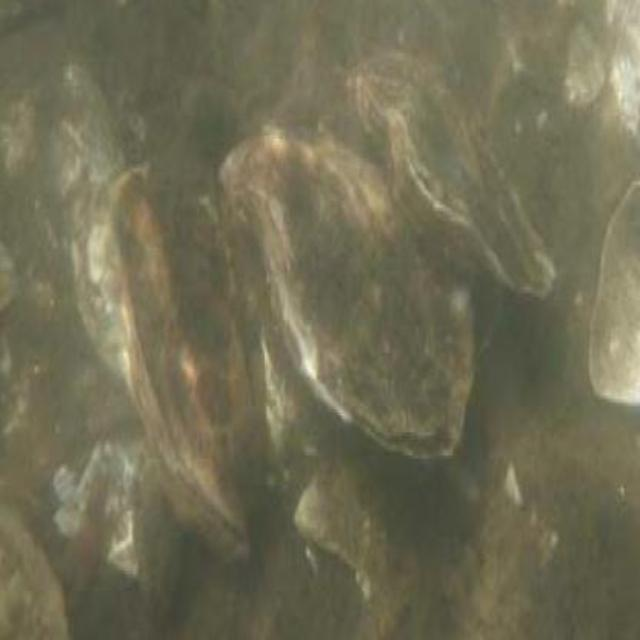Oyster-Closed: (219, 128, 478, 460)
Oyster-Indeterminate: (53, 58, 249, 571), (349, 54, 559, 301), (297, 414, 434, 592), (592, 174, 640, 400), (0, 509, 69, 640)
